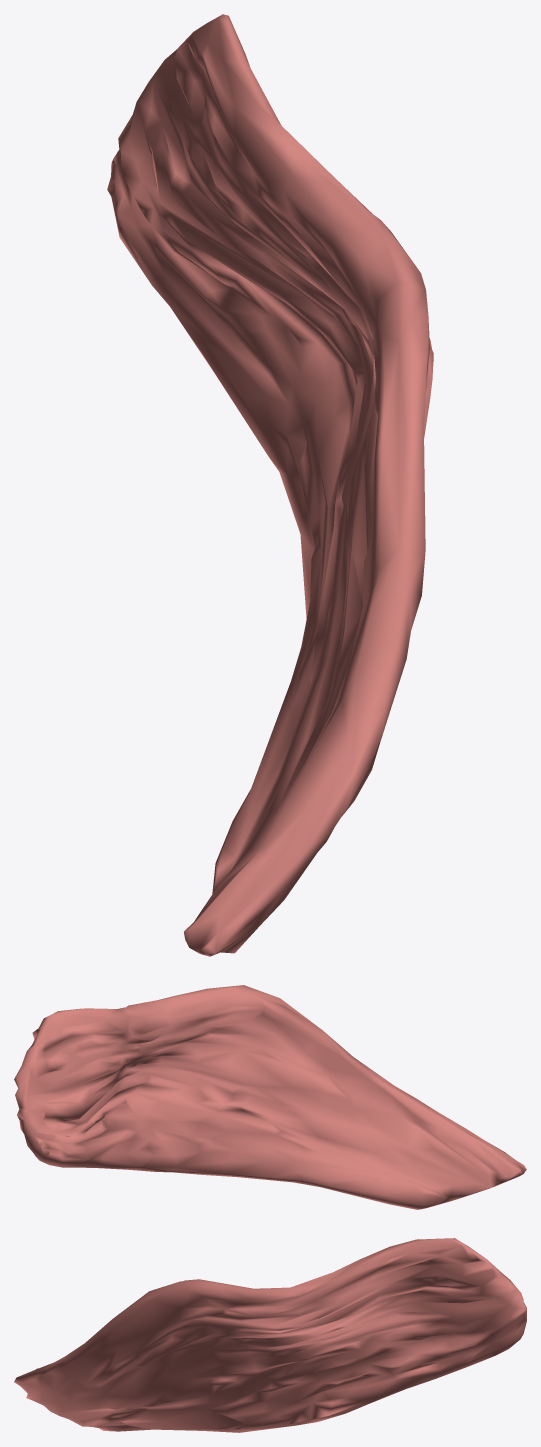
3 views of the same model, one above another, from view 1: azimuth 30°, elevation 25°; view 2: azimuth 150°, elevation 25°; view 3: azimuth 270°, elevation 25° (orthographic). The views are drawn at different scales.
Visible parts, largest first — view 1: ZA_9f1ebf44ca8b8880; view 2: ZA_9f1ebf44ca8b8880; view 3: ZA_9f1ebf44ca8b8880.
Part boxes in pixels (x1,y1,x2,y2): ZA_9f1ebf44ca8b8880: (107, 14, 433, 956); ZA_9f1ebf44ca8b8880: (14, 985, 526, 1209); ZA_9f1ebf44ca8b8880: (14, 1238, 526, 1432).
Bounding box in the file's own units: 0.00884 × 0.00929 × 0.0158.
